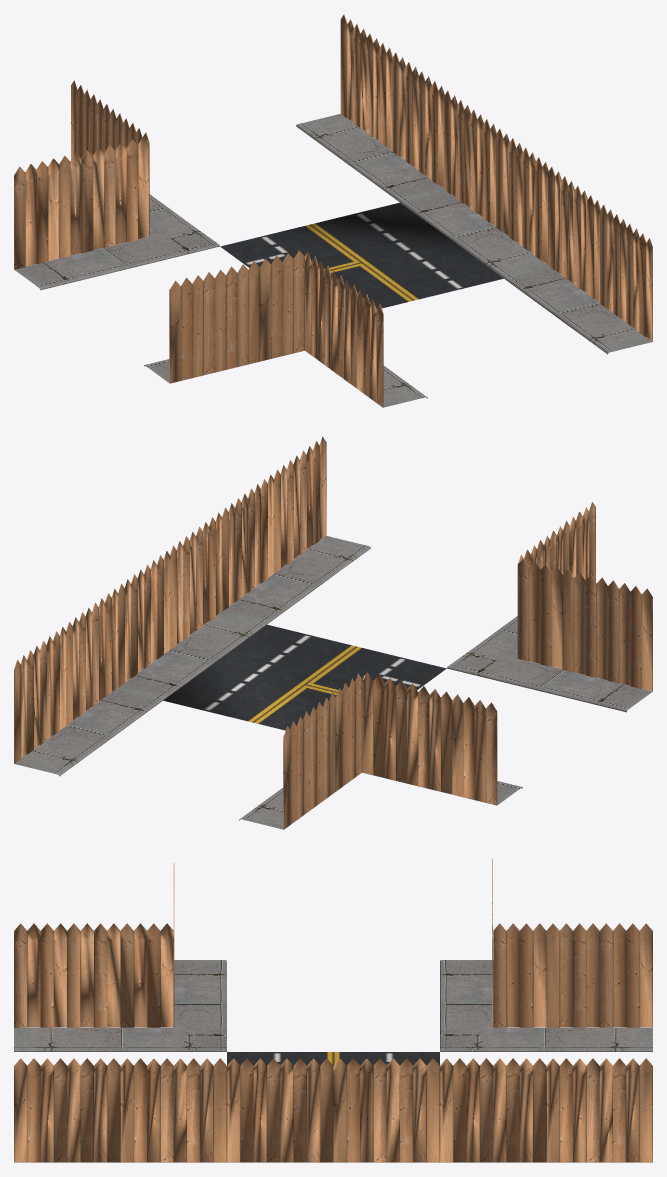
The model's file is road_intersection_fence_1_1_1.obj.
The picture shows the model from 3 angles, top to bottom: view 1: azimuth 30°, elevation 25°; view 2: azimuth 150°, elevation 25°; view 3: azimuth 270°, elevation 25°; orthographic projection. The views are drawn at different scales.
Visible parts, largest first — view 1: ROAD_TILE_Plane.016; view 2: ROAD_TILE_Plane.016; view 3: ROAD_TILE_Plane.016.
Boxes of the visible parts, <box> form: ROAD_TILE_Plane.016: <box>14,14,652,407</box>; ROAD_TILE_Plane.016: <box>14,436,652,829</box>; ROAD_TILE_Plane.016: <box>14,858,652,1162</box>.
Bounding box in the file's own units: 45.01 × 11.01 × 60.01.
